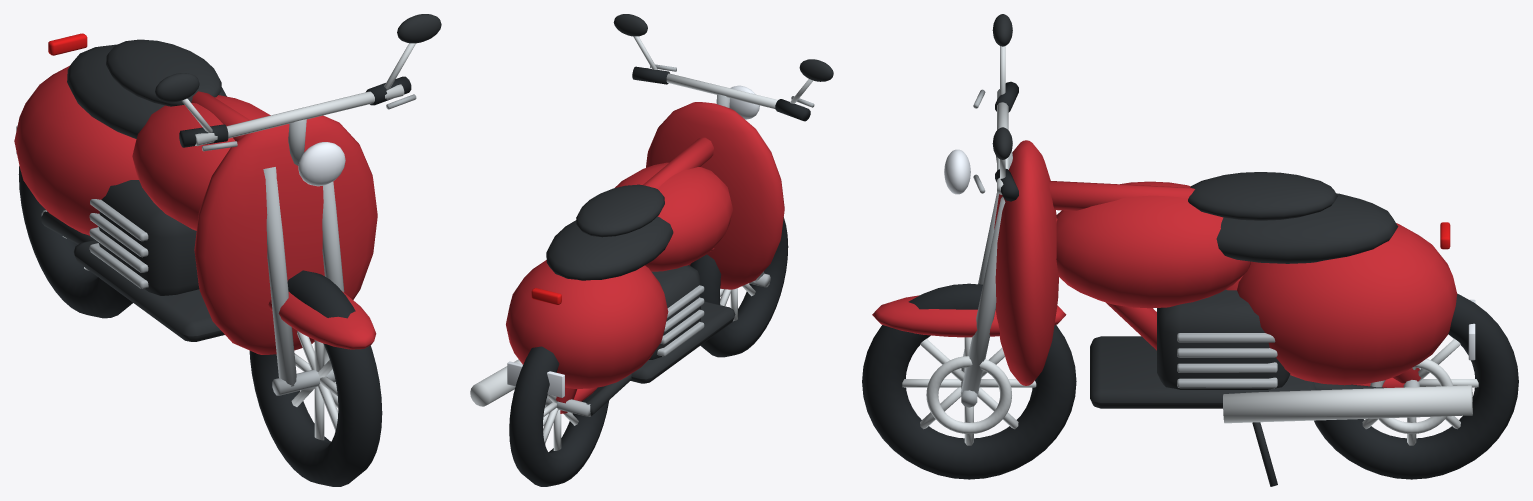
Rendered from city-scooter.glb.
3 renders of one model, left to right at view 1: azimuth 30°, elevation 25°; view 2: azimuth 150°, elevation 25°; view 3: azimuth 270°, elevation 25°, orthographic. The views are drawn at different scales.
Visible parts, largest first — view 1: Frame, Swing arm, wheel-front, Rim, Spoke, wheel-rear, Plate, Grip, Tail light; view 2: Frame, Swing arm, wheel-rear, wheel-front, Spoke, Rim, Plate, Grip; view 3: Frame, Swing arm, Spoke, wheel-front, wheel-rear, Rim, Plate, Grip.
Boxes of the visible parts, x1,y1,x2,y2 form: Frame: (14, 65, 377, 354); Swing arm: (41, 14, 441, 341); wheel-front: (249, 270, 382, 486); Rim: (41, 94, 416, 395); Spoke: (62, 43, 415, 440); wheel-rear: (18, 166, 132, 318); Plate: (16, 126, 345, 186); Grip: (179, 76, 411, 147); Tail light: (48, 33, 87, 55); Frame: (506, 102, 784, 413); Swing arm: (546, 14, 833, 415); wheel-rear: (509, 346, 609, 486); wheel-front: (690, 217, 788, 357); Spoke: (470, 36, 813, 450); Rim: (545, 64, 814, 416); Plate: (507, 85, 759, 397); Grip: (632, 66, 810, 121); Frame: (872, 140, 1457, 387); Swing arm: (992, 14, 1398, 486); Spoke: (902, 46, 1478, 445); wheel-front: (862, 283, 1076, 479); wheel-rear: (1314, 293, 1518, 479); Rim: (960, 89, 1419, 407); Plate: (944, 149, 1475, 360); Grip: (995, 81, 1018, 201).
Size of the model in its own units: 0.944 by 1.33 by 1.96.
